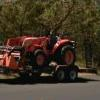Tractor: (2, 24, 89, 88)
